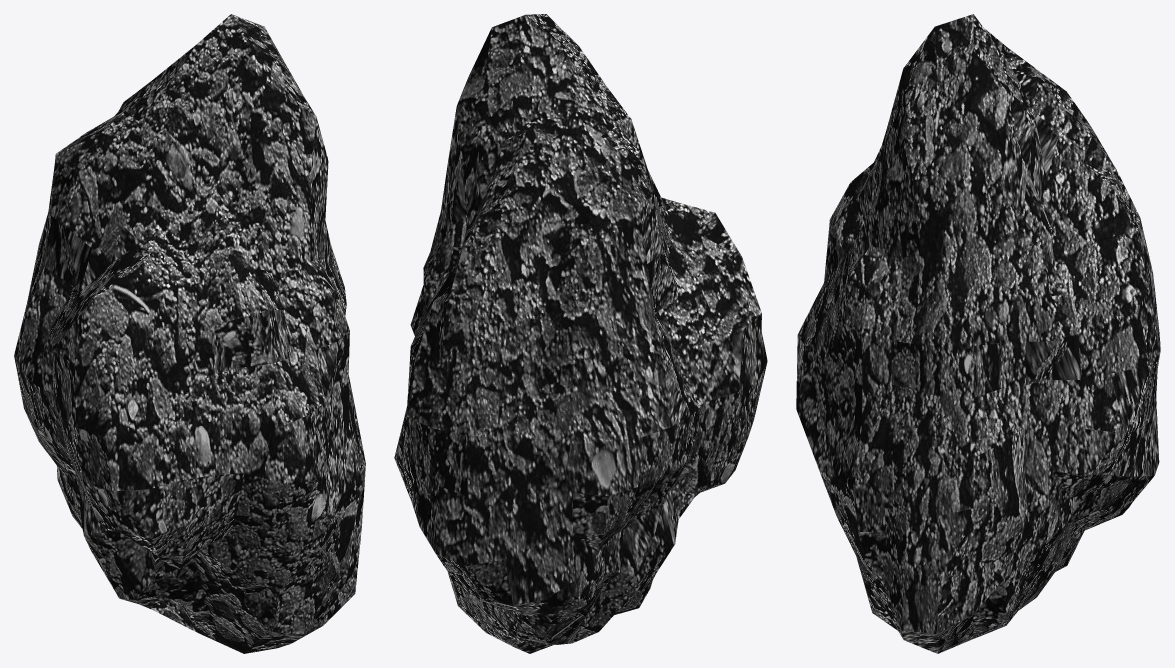
The model's file is asteroid02.fbx.
3 renders of one model, left to right at view 1: azimuth 30°, elevation 25°; view 2: azimuth 150°, elevation 25°; view 3: azimuth 270°, elevation 25°, orthographic.
Parts seen in each view (by area): view 1: Cube; view 2: Cube; view 3: Cube.
Part boxes in pixels (bbox=[...]): Cube: bbox=[14, 14, 365, 653]; Cube: bbox=[394, 14, 767, 653]; Cube: bbox=[796, 14, 1160, 653].
Bounding box in the file's own units: 750 × 1495 × 787.
